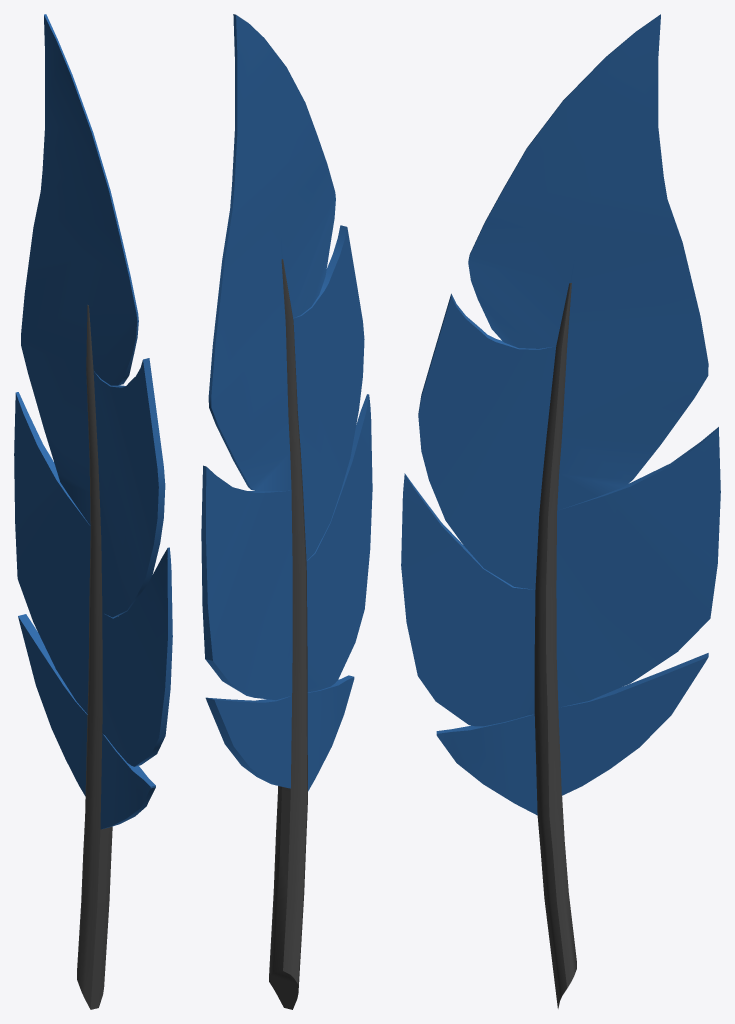
Rendered from penaAzul.fbx.
3 renders of one model, left to right at view 1: azimuth 30°, elevation 25°; view 2: azimuth 150°, elevation 25°; view 3: azimuth 270°, elevation 25°, orthographic. The views are drawn at different scales.
Parts seen in each view (by area): view 1: Cylinder; view 2: Cylinder; view 3: Cylinder.
Part boxes in pixels (<box>): Cylinder: <box>14,14,172,1009</box>; Cylinder: <box>201,14,372,1009</box>; Cylinder: <box>401,14,720,1008</box>.
Bounding box in the file's own units: 21.36 × 732 × 214.
